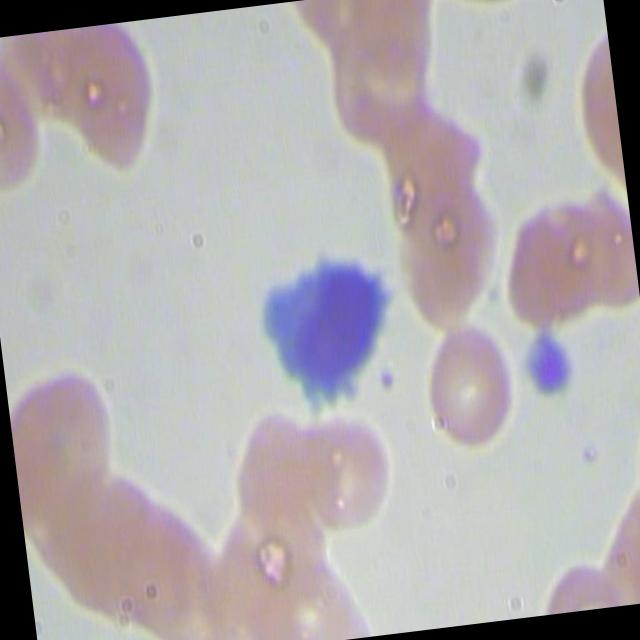Platelets: (508, 322, 578, 421)
RBC: (48, 18, 174, 194), (404, 312, 528, 462), (287, 390, 410, 540), (487, 190, 610, 340)
WBC: (245, 238, 418, 434)
